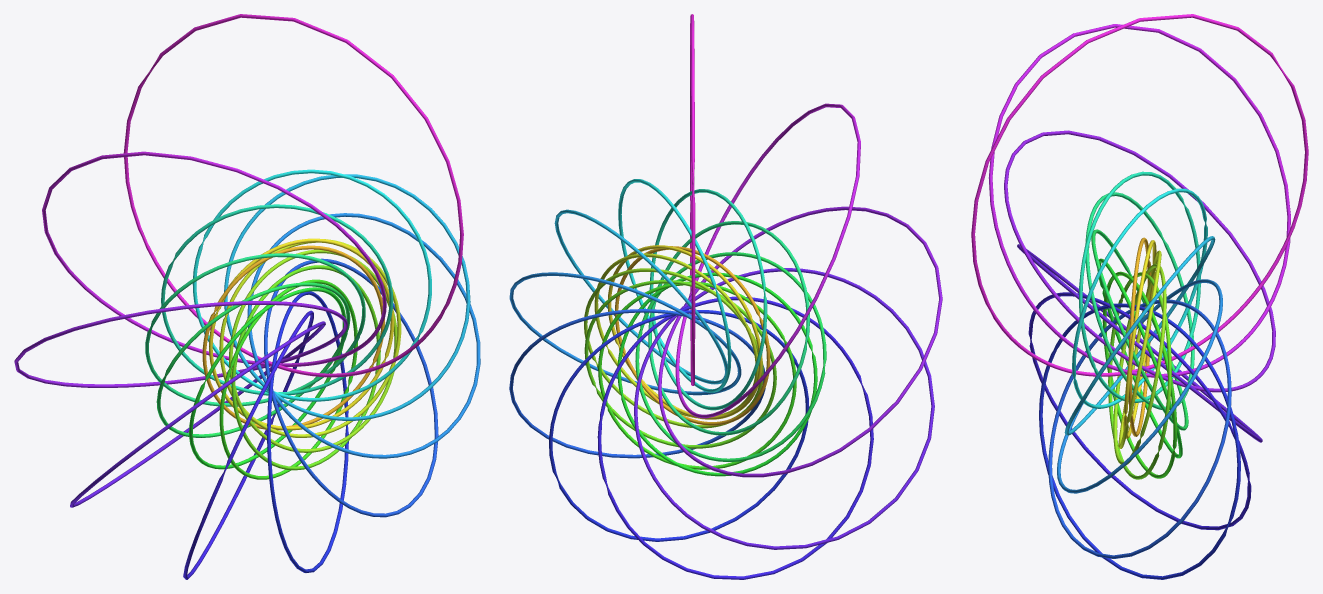
The model's file is hopf_spiral.obj.
3 renders of one model, left to right at view 1: azimuth 30°, elevation 25°; view 2: azimuth 150°, elevation 25°; view 3: azimuth 270°, elevation 25°, orthographic. The views are drawn at different scales.
Parts seen in each view (by area): view 1: HopfSpiralBand; view 2: HopfSpiralBand; view 3: HopfSpiralBand.
Boxes of the visible parts, <box> form: HopfSpiralBand: <box>14,14,480,579</box>; HopfSpiralBand: <box>509,14,942,579</box>; HopfSpiralBand: <box>971,14,1308,579</box>.
Size of the model in its own units: 3.36 by 4 by 2.25.
